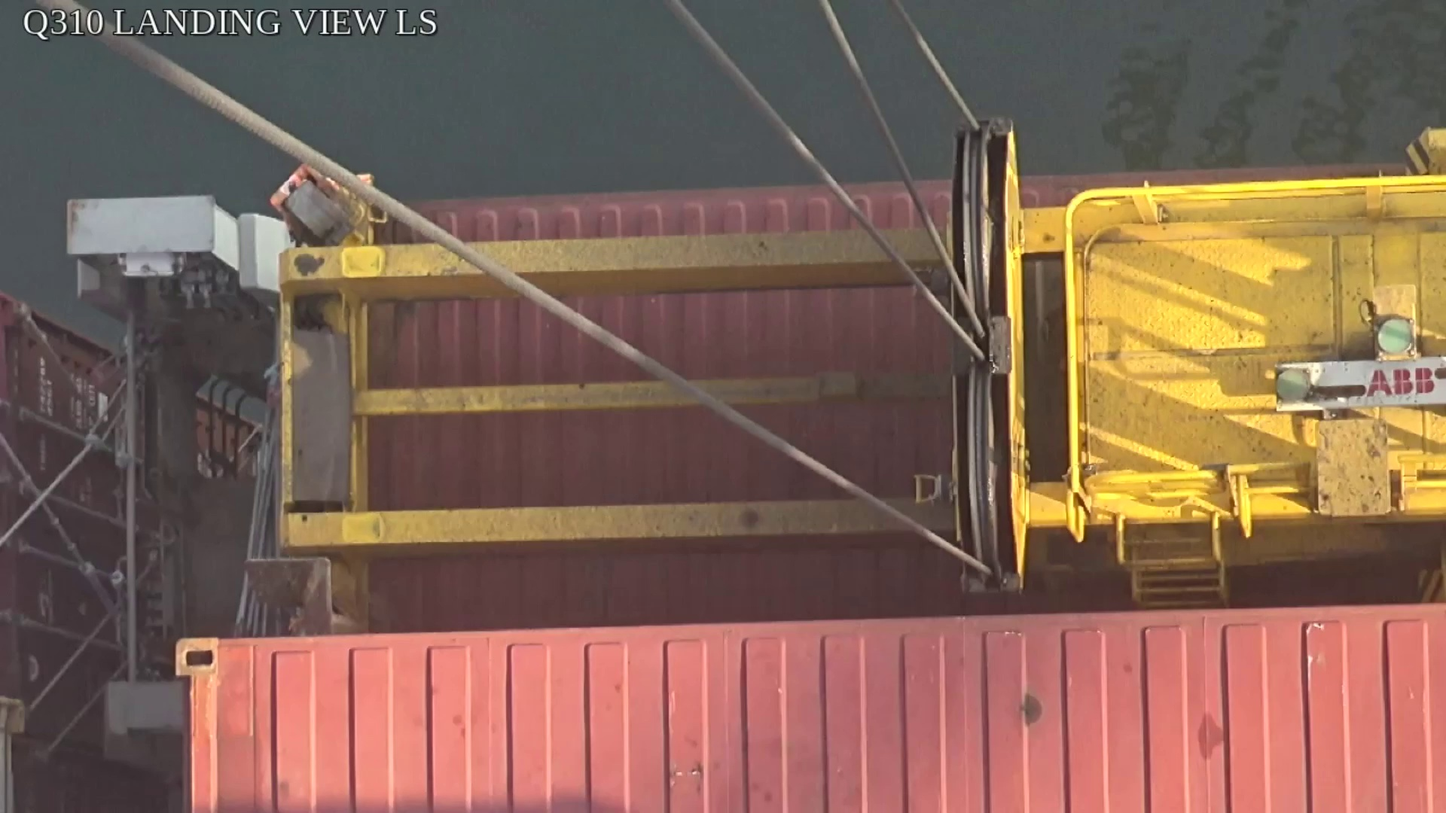left_gear: (931, 108, 1036, 604)
